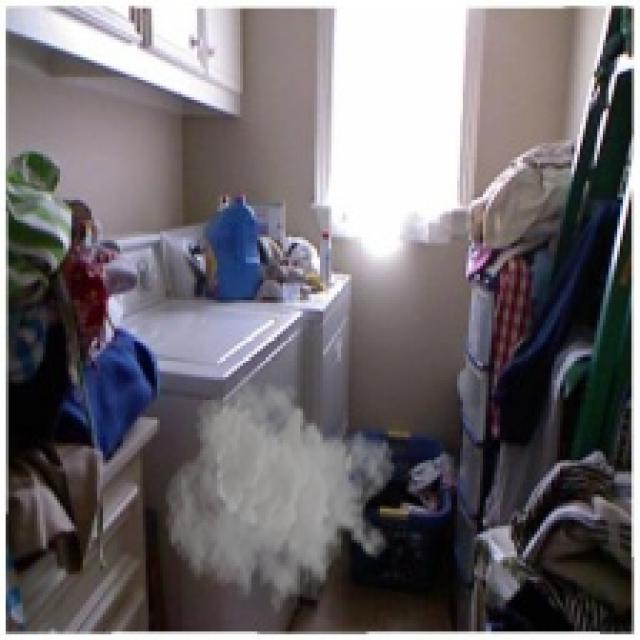smoke: (163, 371, 397, 623)
